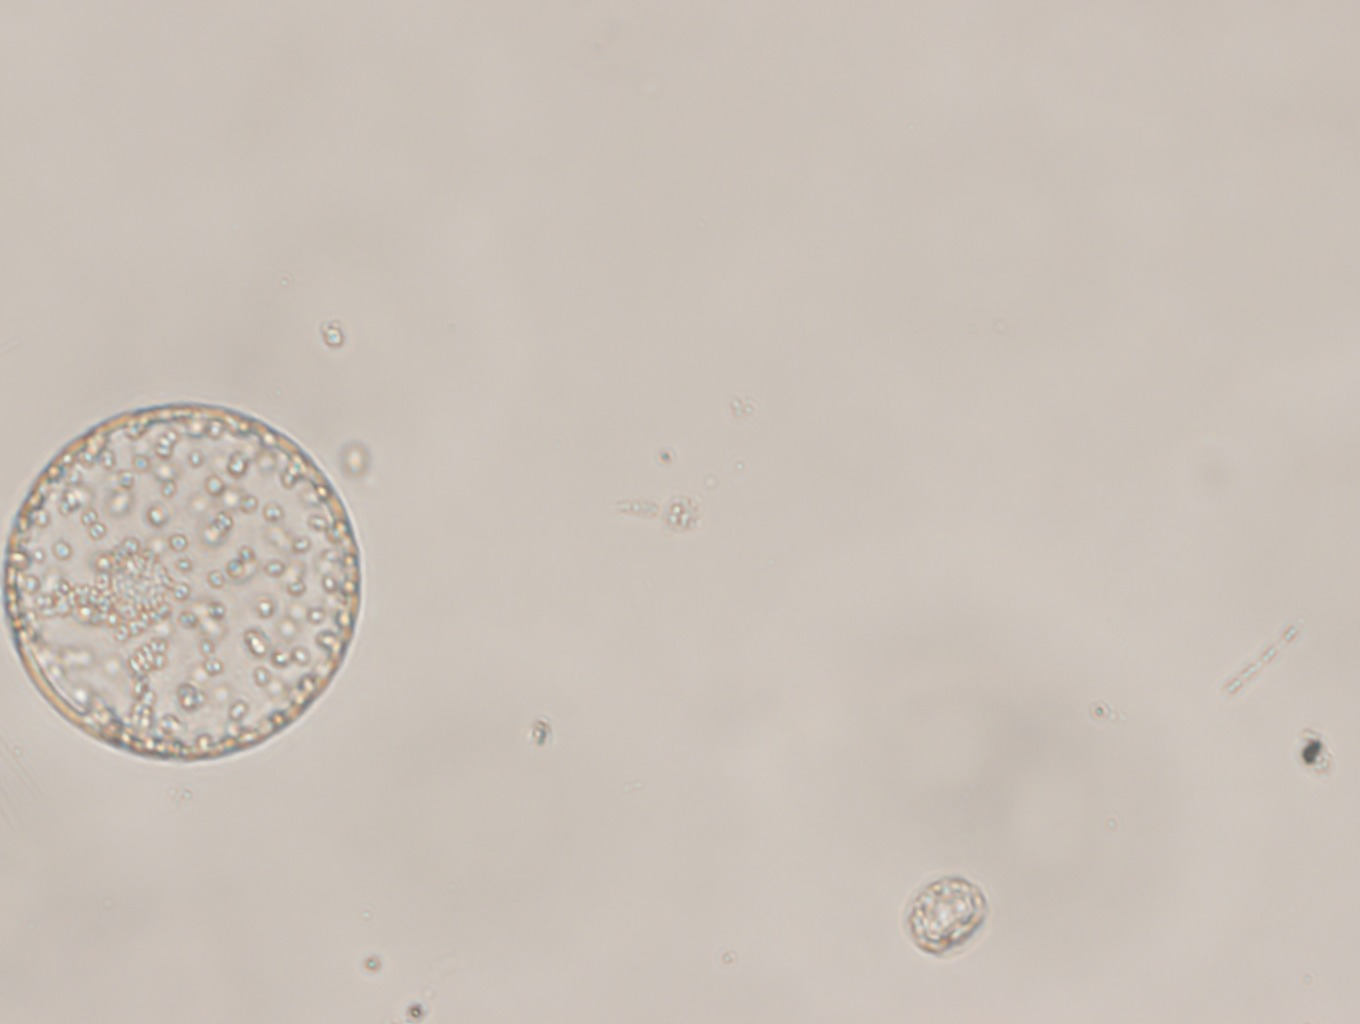coscinodiscus: (3, 399, 362, 764)
